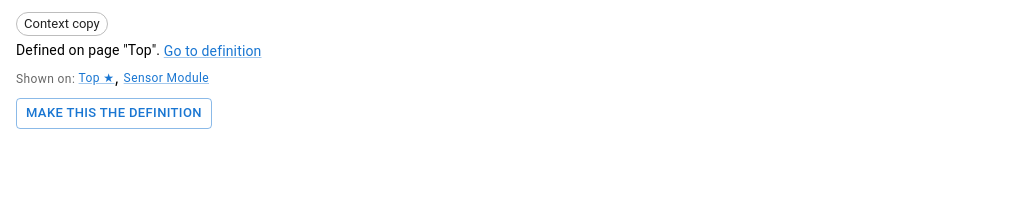
IdentitySection › makes the copy the definition and shows a refusal
Click the button with test id "identity-make-definition".
click(114, 114)  # box [16,98,212,129]
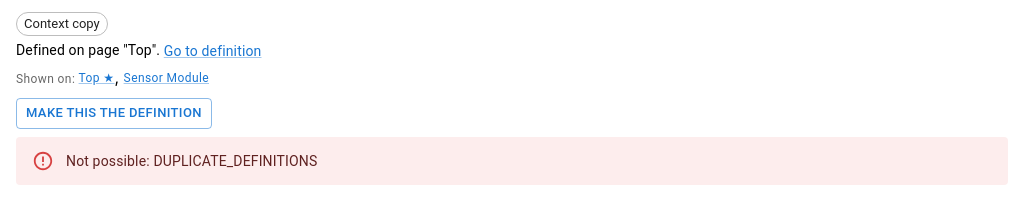
Now the message with test id "identity-error" shows "DUPLICATE_DEFINITIONS", box [66,153,317,169]
